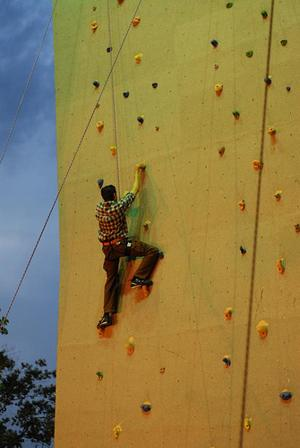person: (96, 161, 161, 331)
